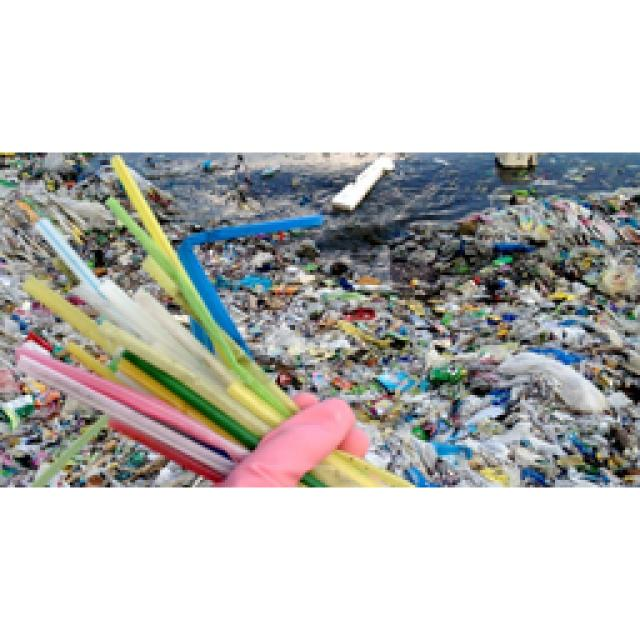plastic: (18, 155, 320, 478), (305, 450, 408, 485)
